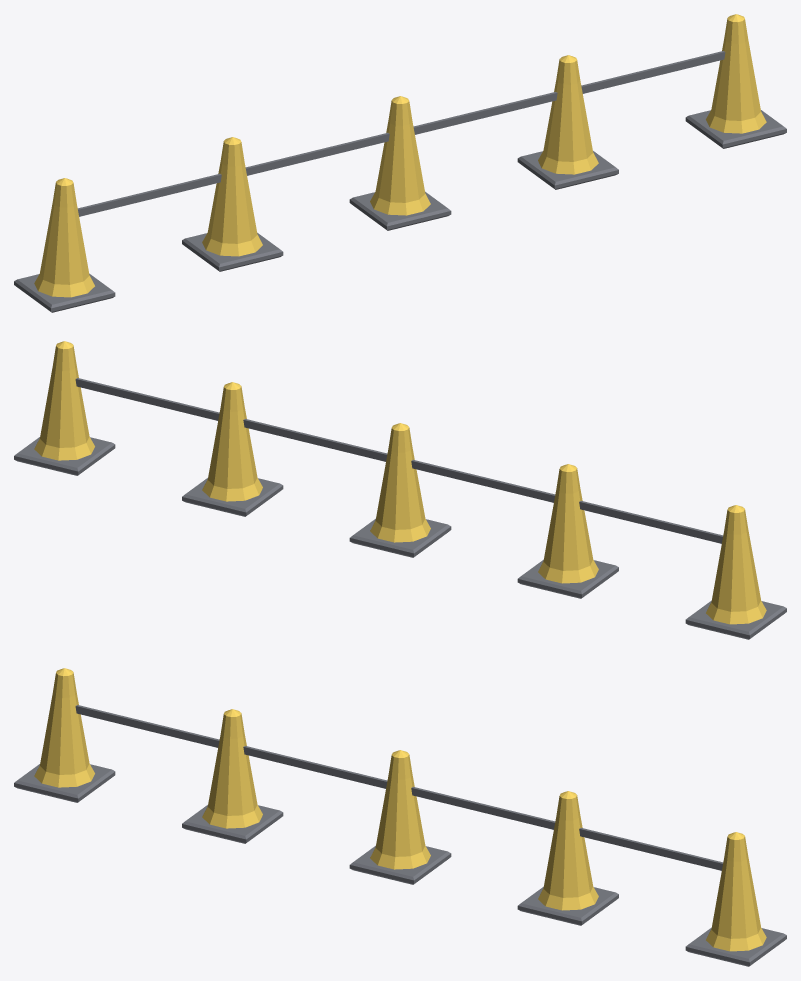
The model's file is safety_cone_row.glb.
3 renders of one model, top to bottom at view 1: azimuth 30°, elevation 25°; view 2: azimuth 150°, elevation 25°; view 3: azimuth 330°, elevation 25°, orthographic.
Parts seen in each view (by area): view 1: safety-cone-row; view 2: safety-cone-row; view 3: safety-cone-row.
Part boxes in pixels (bbox=[...]): safety-cone-row: bbox=[14, 14, 786, 312]; safety-cone-row: bbox=[14, 341, 786, 639]; safety-cone-row: bbox=[14, 668, 786, 966].
Size of the model in its own units: 5.26 by 0.7847 by 0.4598.
1 material, 1 textured.
